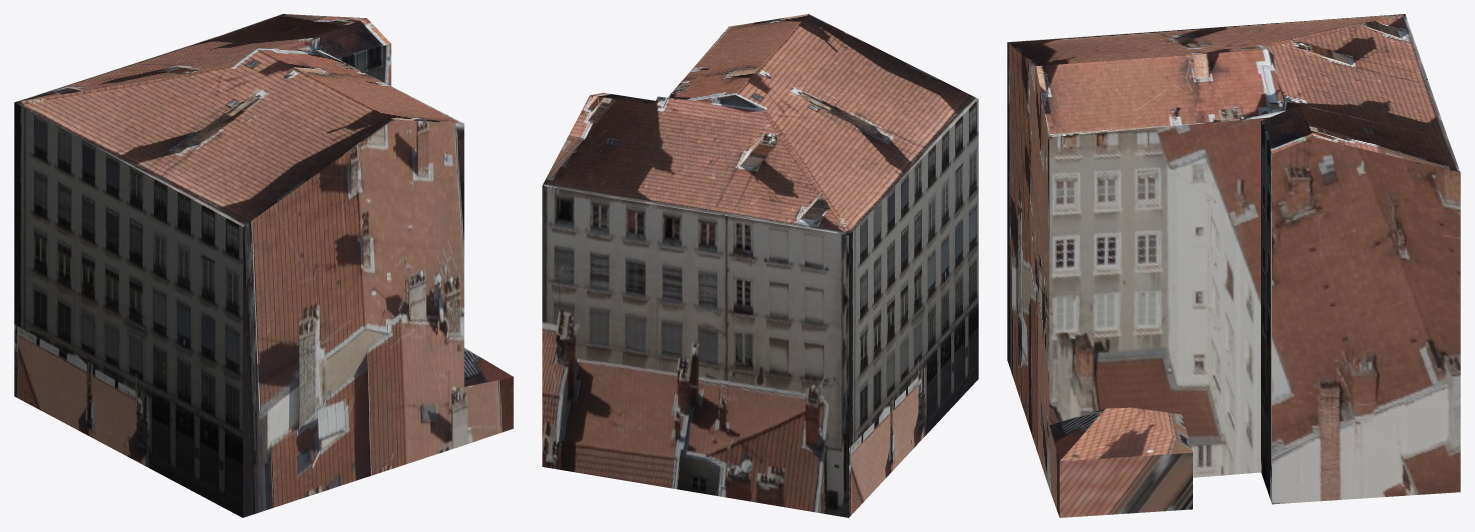
3 views of the same model, side by side, from view 1: azimuth 30°, elevation 25°; view 2: azimuth 150°, elevation 25°; view 3: azimuth 270°, elevation 25° (orthographic). The views are drawn at different scales.
Parts seen in each view (by area): view 1: Z_UP; view 2: Z_UP; view 3: Z_UP.
Part boxes in pixels (x1,y1,x2,y2): Z_UP: (14, 14, 513, 517); Z_UP: (542, 14, 978, 517); Z_UP: (1007, 14, 1460, 517).
Bounding box in the file's own units: 24.48 × 23.95 × 25.68.
Materials: 2 (1 with a texture image).
